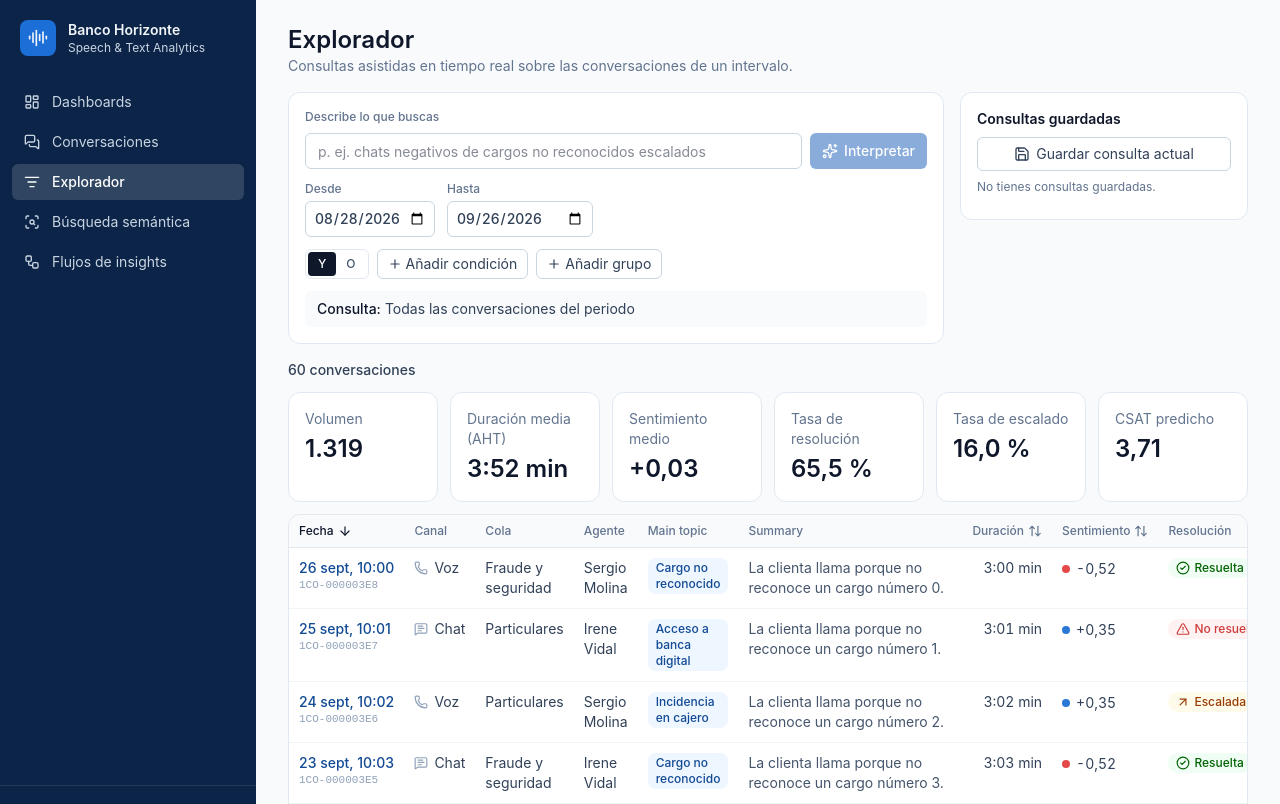
Test: consulta en lenguaje natural › avisa de las palabras que no ha entendido
The image size is (1280, 804).
Type "chats escalados con arcoíris y zodiaco" into the field labelled "Describe lo que buscas" at coordinates (554, 151), box [305,133,802,169]
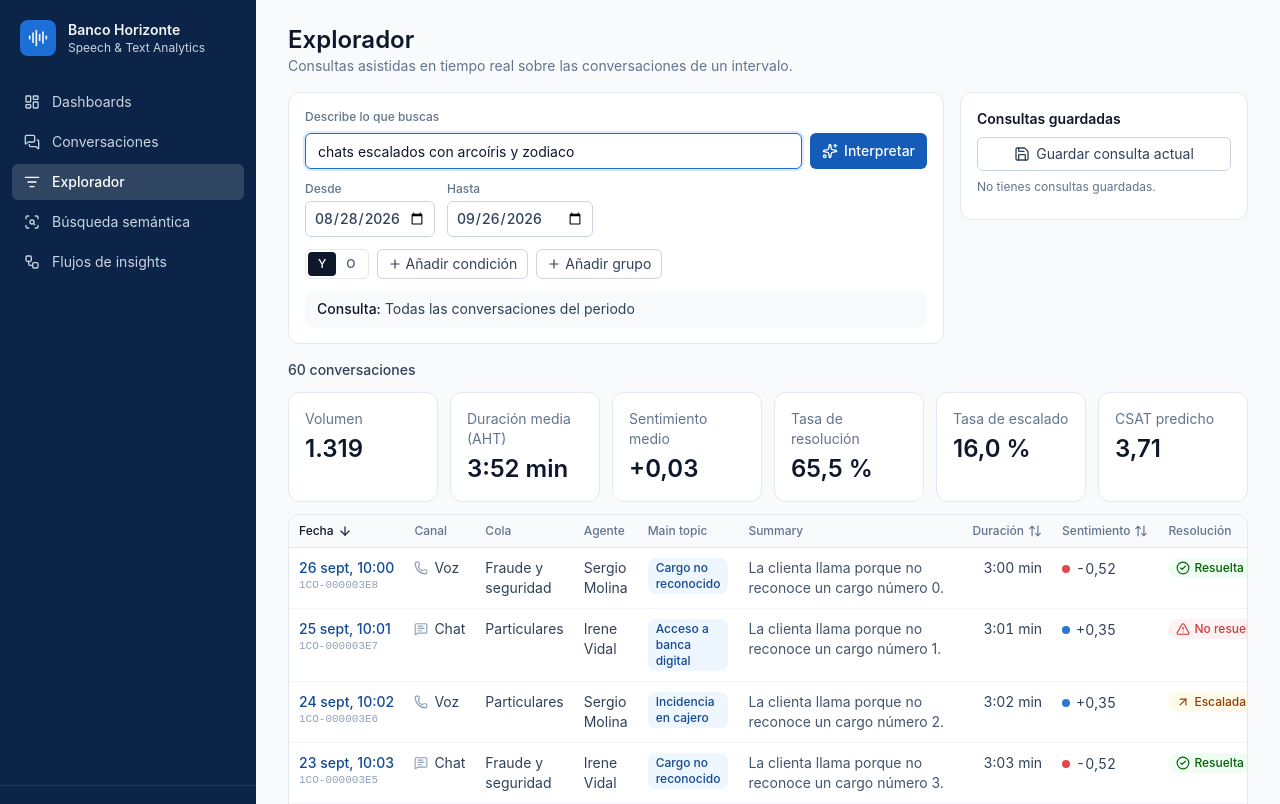
Click the button "Interpretar" at coordinates (869, 151), box [810,133,927,169]
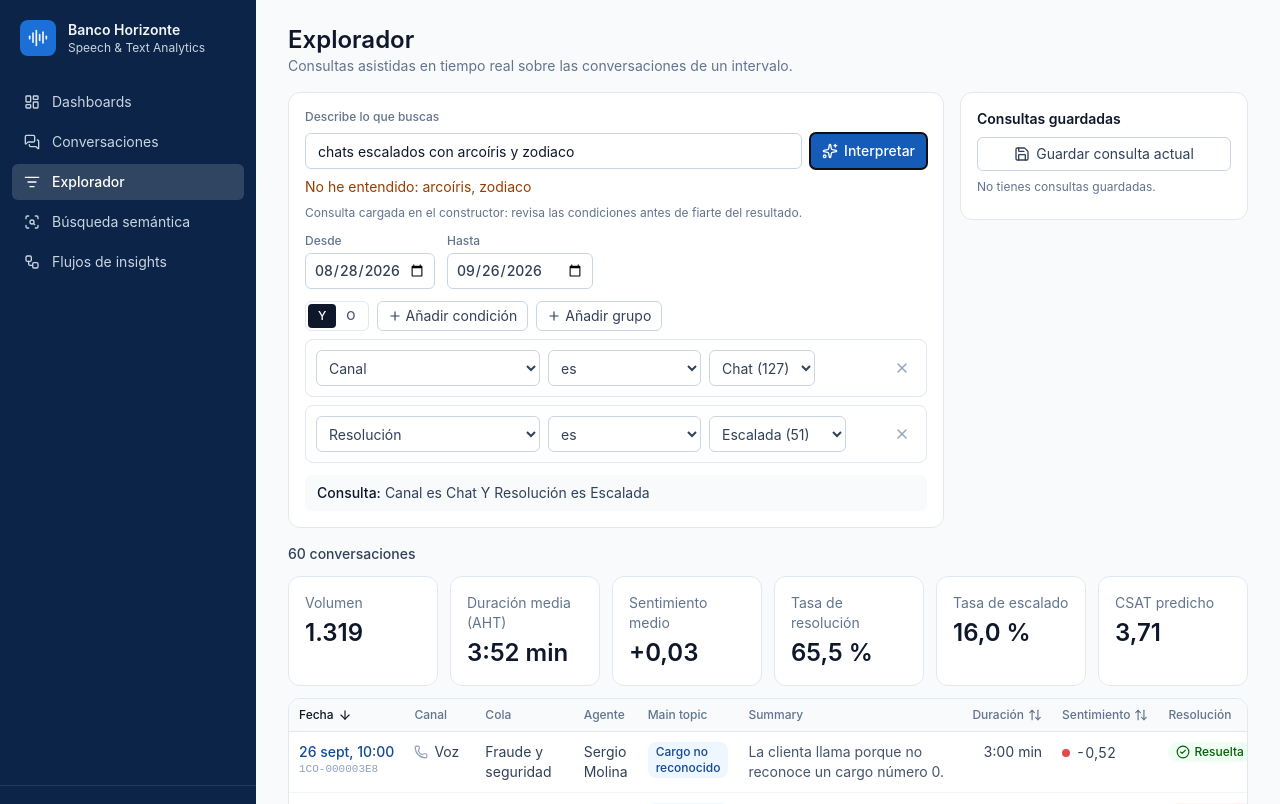
Expected: the message "No he entendido: arcoíris, zodiaco" is shown, [305,178,532,195]
